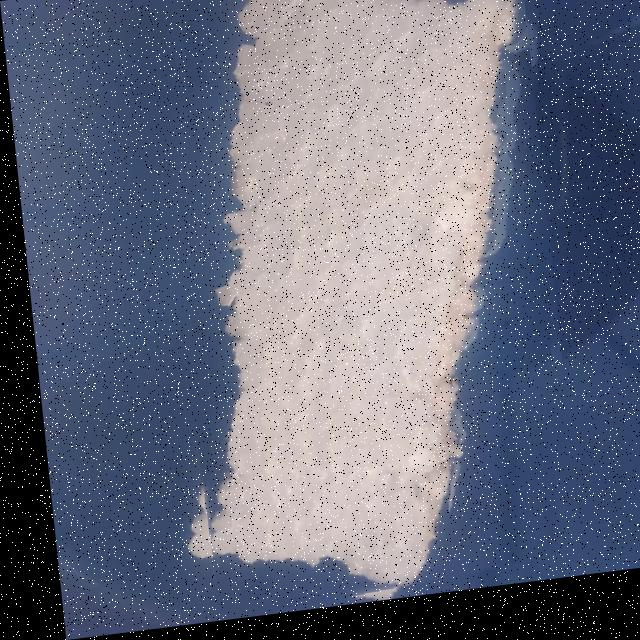litter: (132, 0, 570, 627)
